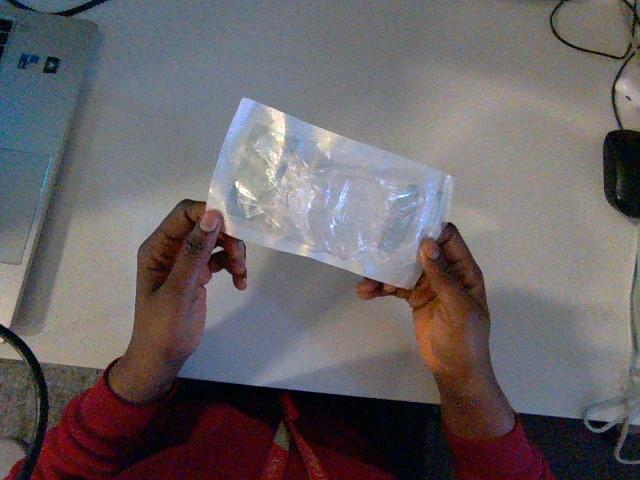gallipot: (207, 99, 452, 287)
